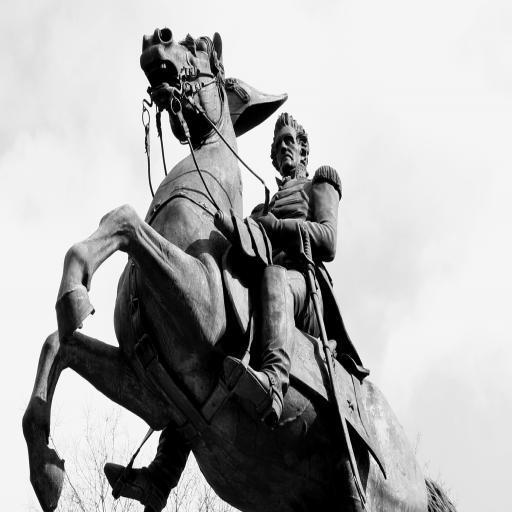horse: (18, 30, 458, 512)
